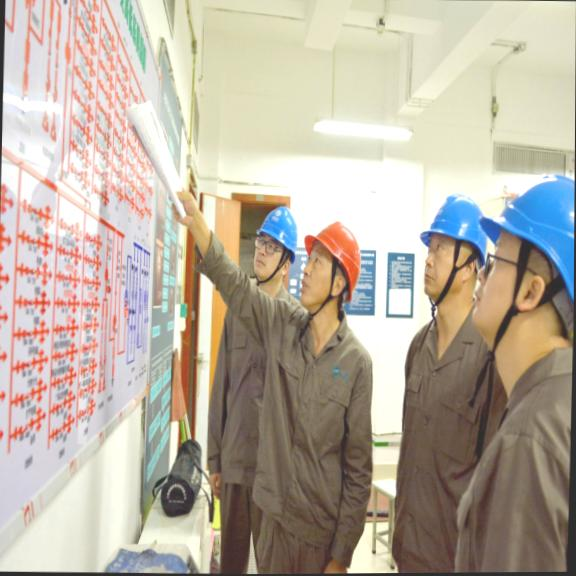no_safety_vest: (273, 309, 367, 574), (405, 317, 482, 570)
